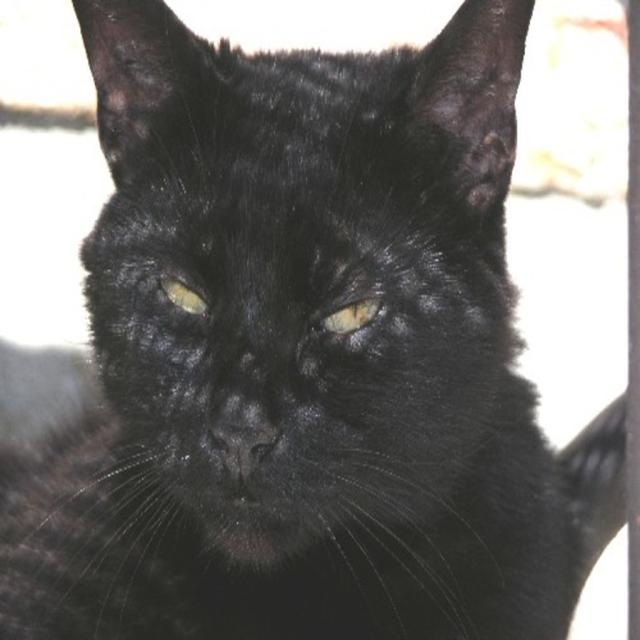Cat: (0, 0, 578, 639)
